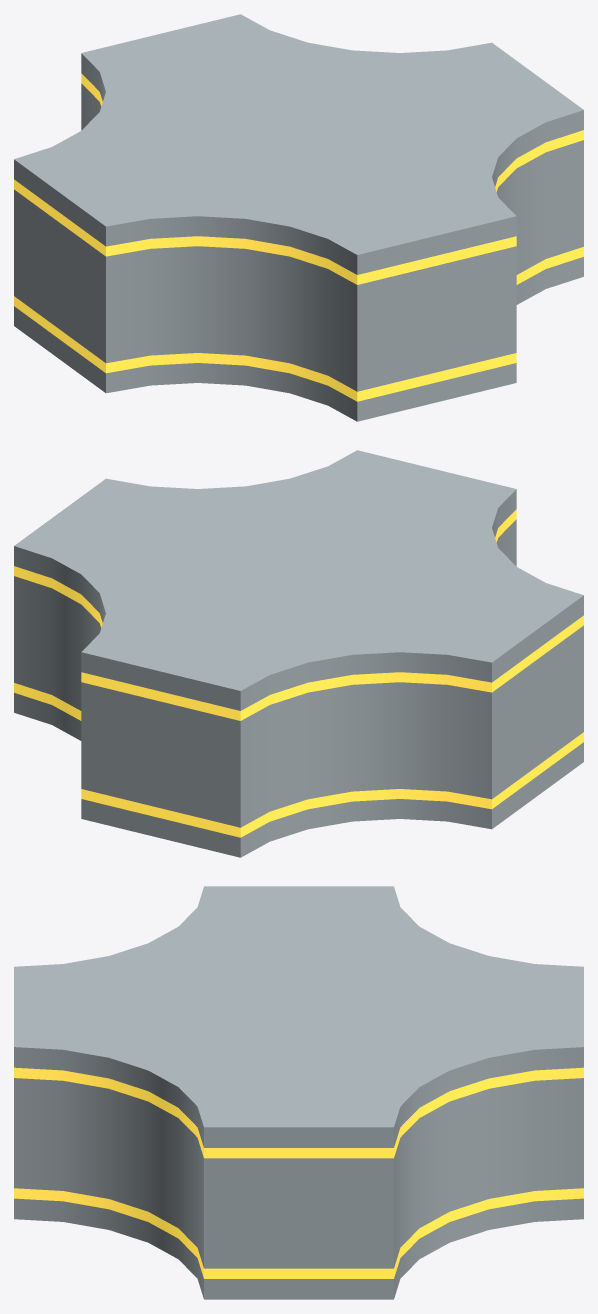
File: SM_CurvedCrossroad_v0.fbx
3 renders of one model, top to bottom at view 1: azimuth 30°, elevation 25°; view 2: azimuth 150°, elevation 25°; view 3: azimuth 270°, elevation 25°, orthographic. The views are drawn at different scales.
Visible parts, largest first — view 1: SM_CurvedCrossroad_v0; view 2: SM_CurvedCrossroad_v0; view 3: SM_CurvedCrossroad_v0.
Boxes of the visible parts, x1,y1,x2,y2 form: SM_CurvedCrossroad_v0: (14, 14, 583, 421); SM_CurvedCrossroad_v0: (14, 450, 583, 857); SM_CurvedCrossroad_v0: (14, 886, 583, 1299).
Size of the model in its own units: 3 by 1 by 3.
